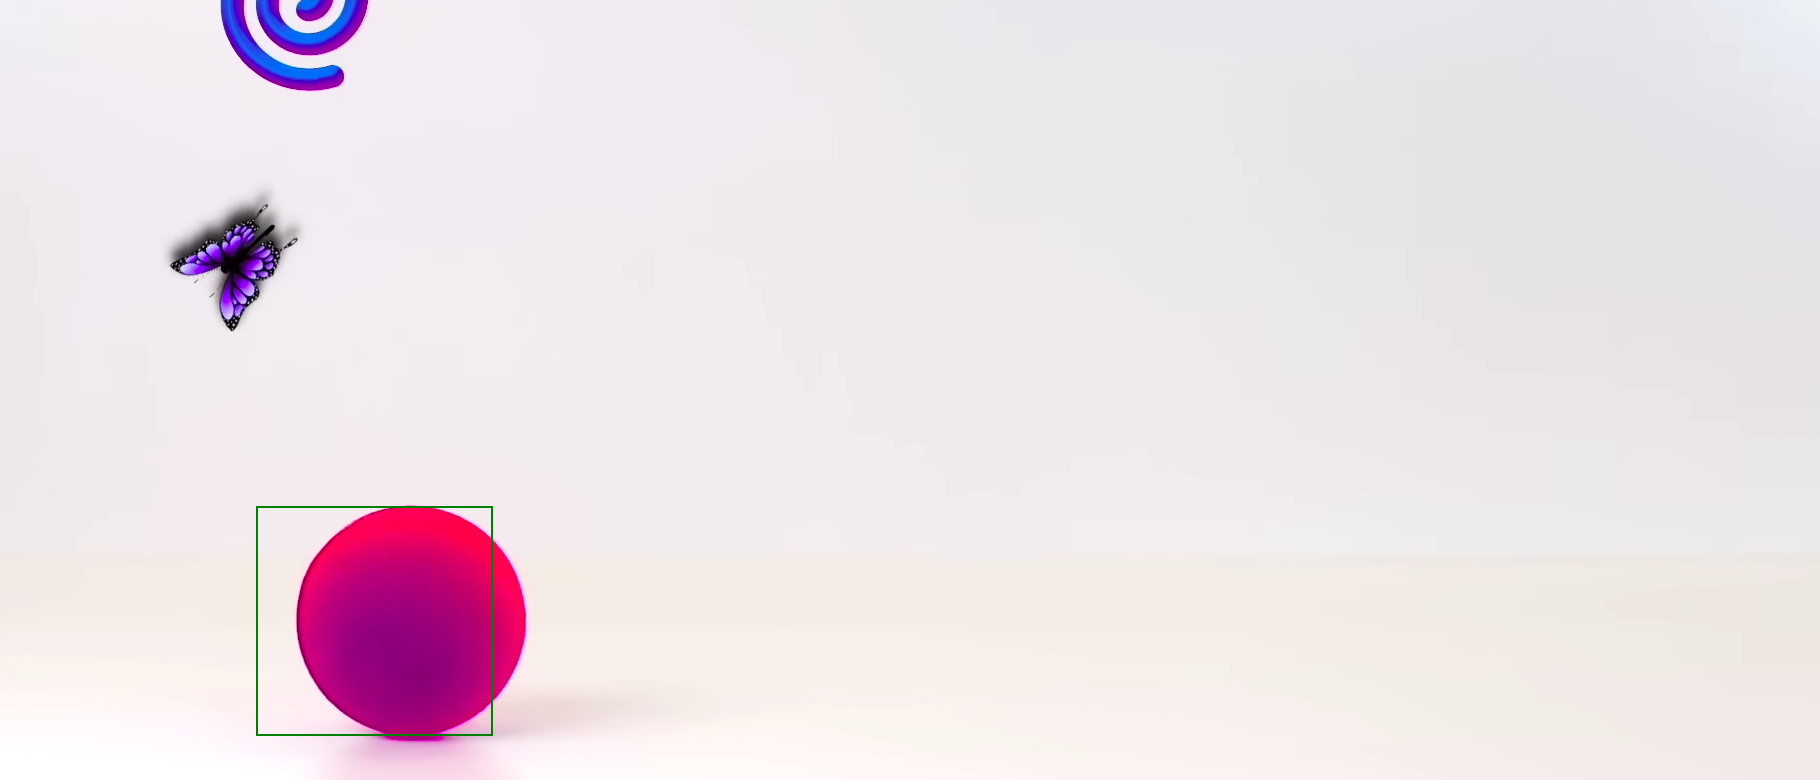Circle: (294, 501, 530, 744)
